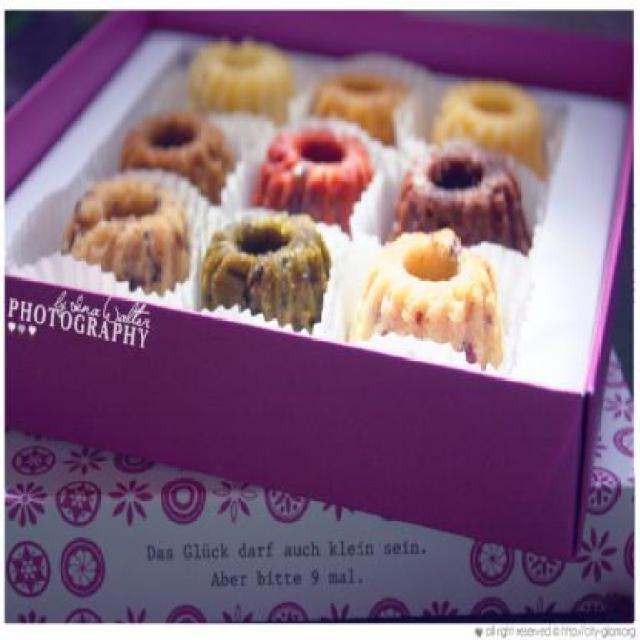Cookie: (348, 224, 503, 370), (62, 152, 193, 292), (197, 203, 331, 332), (388, 138, 532, 242), (251, 121, 375, 233), (431, 78, 546, 180), (118, 108, 236, 204), (186, 37, 294, 123), (310, 67, 408, 144)
